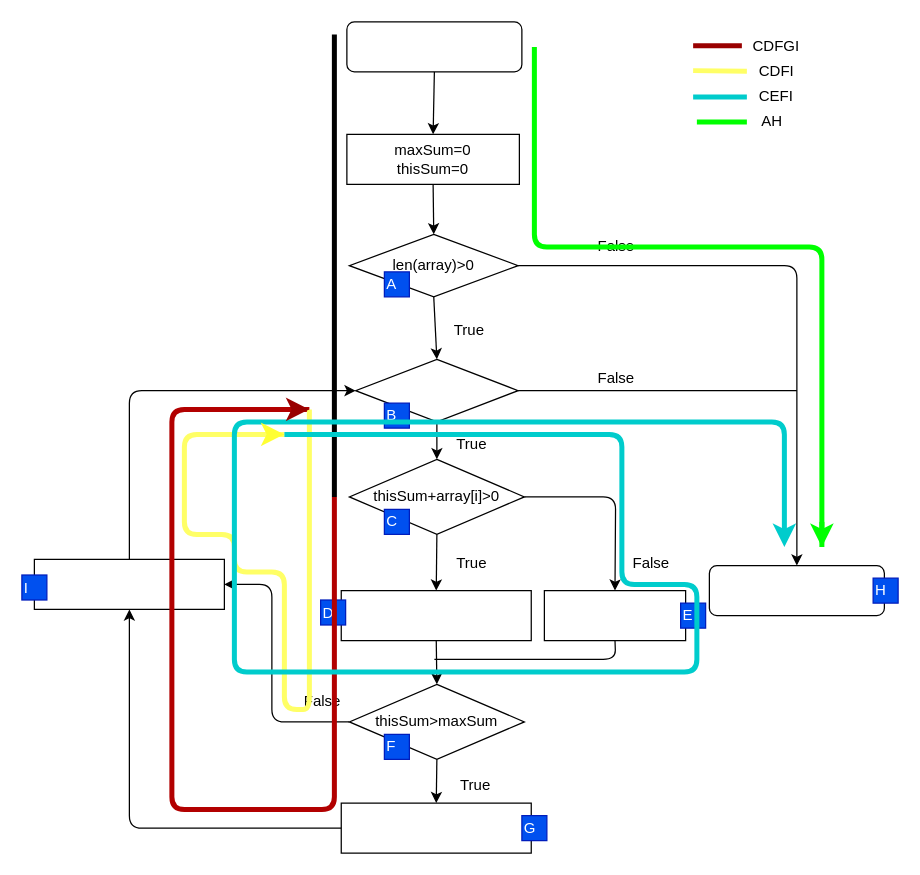
The diagram is 920 pixels wide and 875 high, and some of its shapes have lost their labels. The box of each missing label's shape, as (x1, y1, x2, y2) in pixels:
i++: (33, 558, 224, 609)
i<=len(array)-1: (354, 358, 518, 422)
maxSum=thisSum: (340, 802, 531, 853)
return maxSum: (708, 564, 884, 616)
thisSum=0: (543, 589, 686, 641)
thisSum=thisSum+array[i]: (340, 589, 531, 641)
开始: (346, 21, 522, 72)
